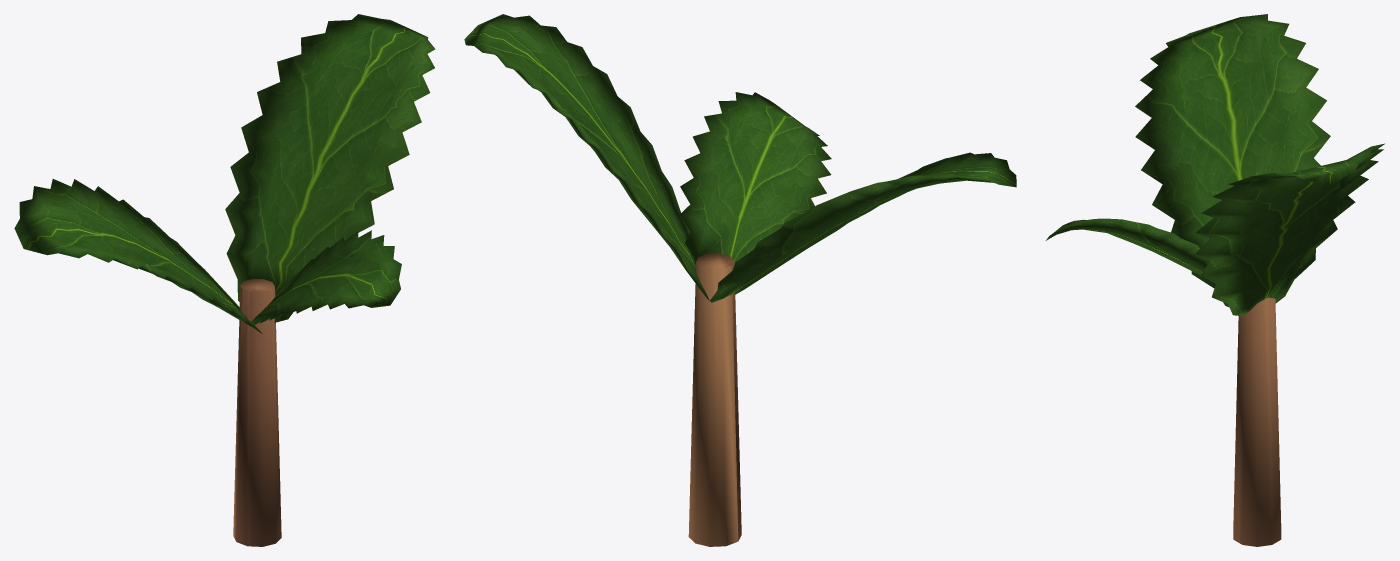
The model's file is NP_Blackberry_Sprout_LOD1.fbx.
3 renders of one model, left to right at view 1: azimuth 30°, elevation 25°; view 2: azimuth 150°, elevation 25°; view 3: azimuth 270°, elevation 25°, orthographic. The views are drawn at different scales.
Visible parts, largest first — view 1: NP_Blackberry_Sprout; view 2: NP_Blackberry_Sprout; view 3: NP_Blackberry_Sprout.
Part boxes in pixels (x1,y1,x2,y2): NP_Blackberry_Sprout: [14, 14, 435, 546]; NP_Blackberry_Sprout: [464, 14, 1016, 546]; NP_Blackberry_Sprout: [1045, 14, 1384, 546].
Bounding box in the file's own units: 34.03 × 32.2 × 21.51.
